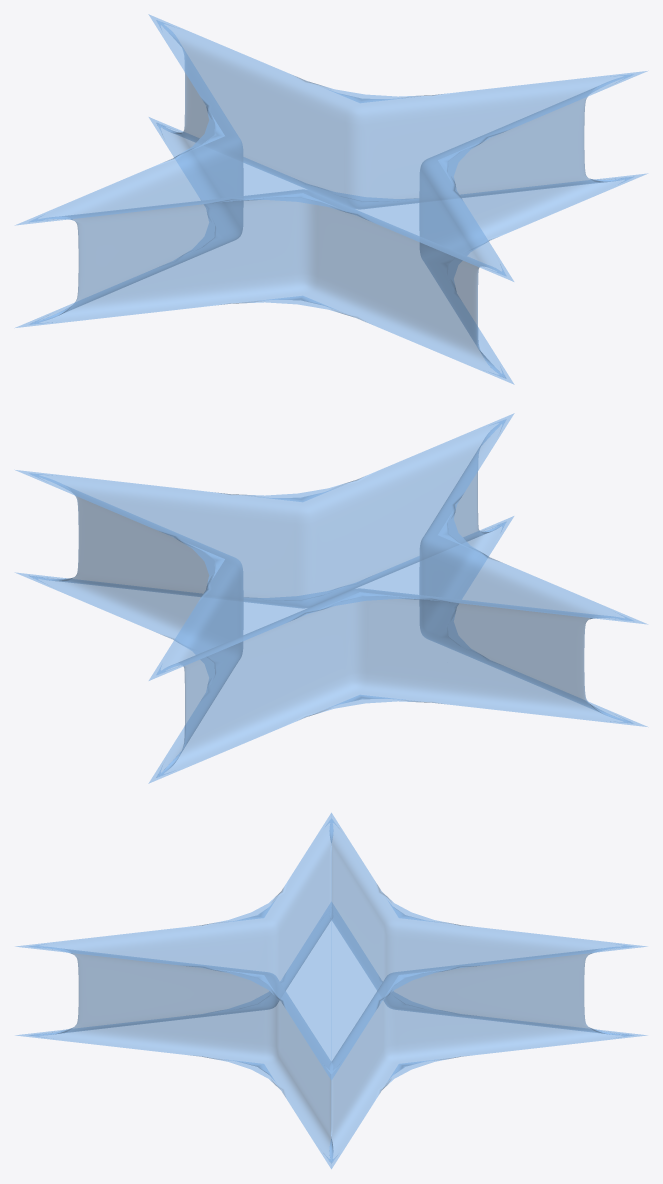
Rendered from star.glb.
3 views of the same model, one above another, from view 1: azimuth 30°, elevation 25°; view 2: azimuth 150°, elevation 25°; view 3: azimuth 270°, elevation 25° (orthographic). The views are drawn at different scales.
Parts seen in each view (by area): view 1: Star; view 2: Star; view 3: Star.
Part boxes in pixels (left/top/right/bottom): Star: left=15, top=14, right=647, bottom=384; Star: left=15, top=413, right=647, bottom=783; Star: left=15, top=812, right=647, bottom=1169.
Size of the model in its own units: 2.46 by 0.38 by 2.46.
